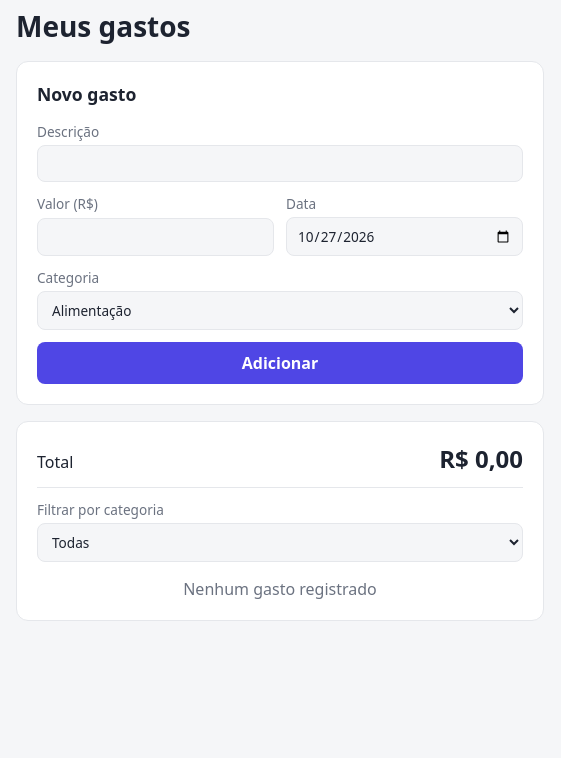
App › soma os gastos e remove um gasto
Type "Ônibus" into the field labelled "Descrição".
click(280, 164); type("Ônibus")  # box left=37, top=145, right=523, bottom=182
Type "10" into the field labelled "Valor (R$)".
click(156, 237); type("10")  # box left=37, top=218, right=274, bottom=256
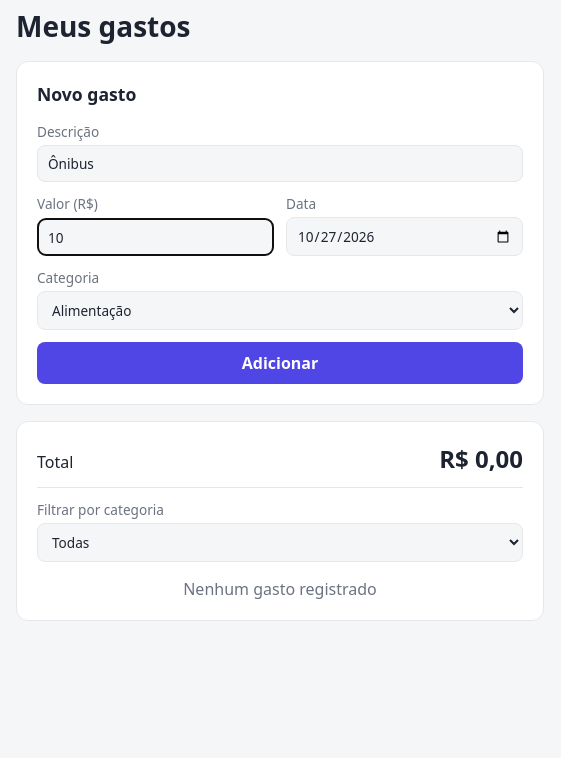
Click the button "Adicionar".
click(280, 363)  # box left=37, top=342, right=523, bottom=384
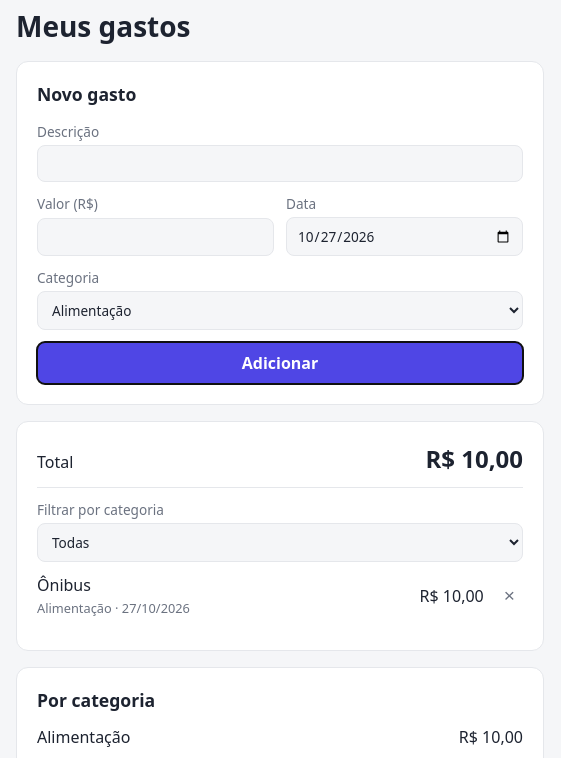
Type "Cinema" into the field labelled "Descrição".
click(280, 164); type("Cinema")  # box left=37, top=145, right=523, bottom=182
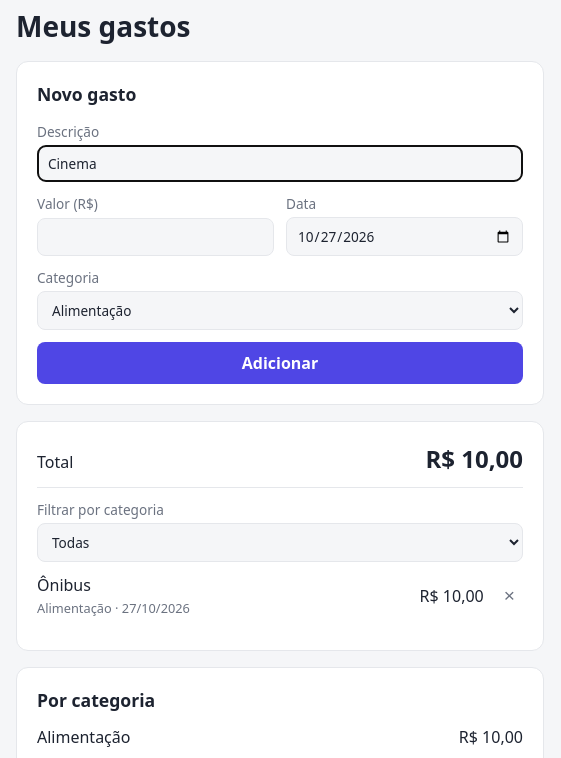
Type "25,50" into the field labelled "Valor (R$)".
click(156, 237); type("25,50")  # box left=37, top=218, right=274, bottom=256
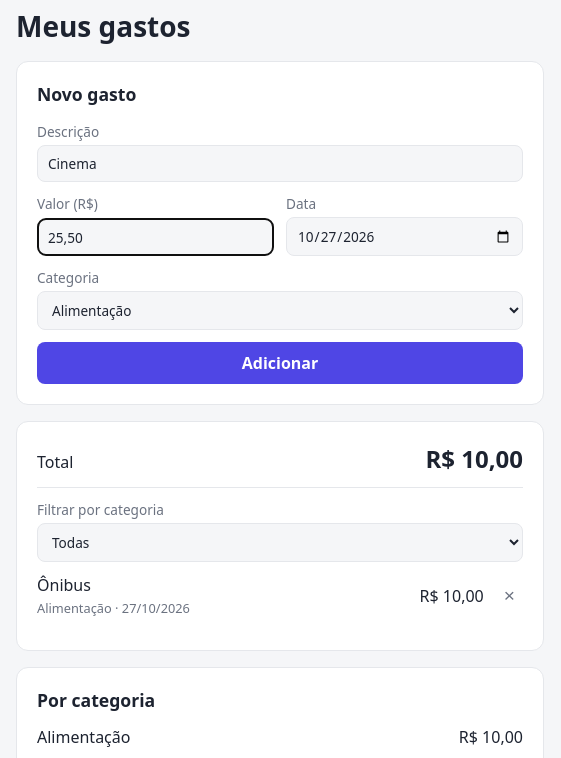
Click the button "Adicionar".
click(280, 363)  # box left=37, top=342, right=523, bottom=384
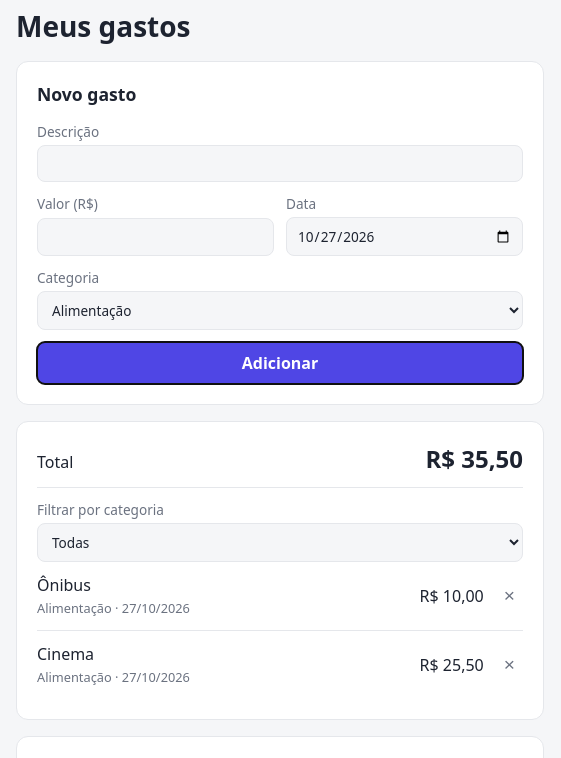
Click the button named "Remover Cinema".
click(509, 665)  # box left=496, top=651, right=523, bottom=679
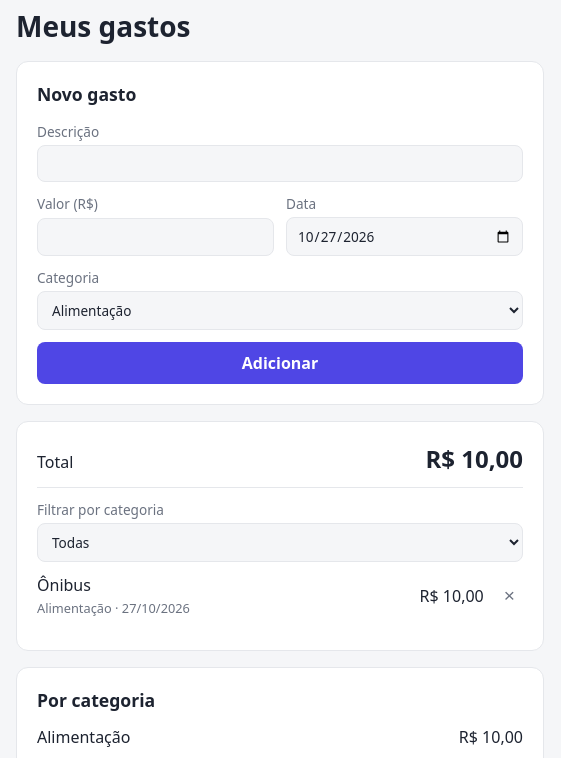
Check: the text "Cinema" is gone
